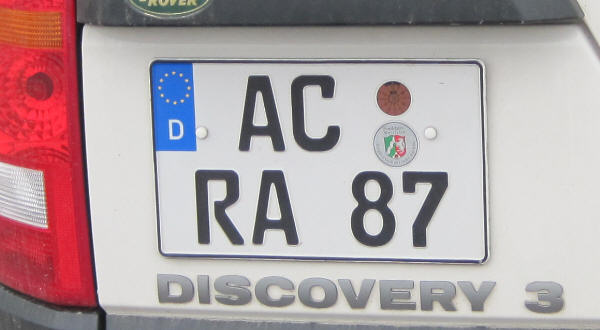license_plate: (150, 59, 490, 265)
